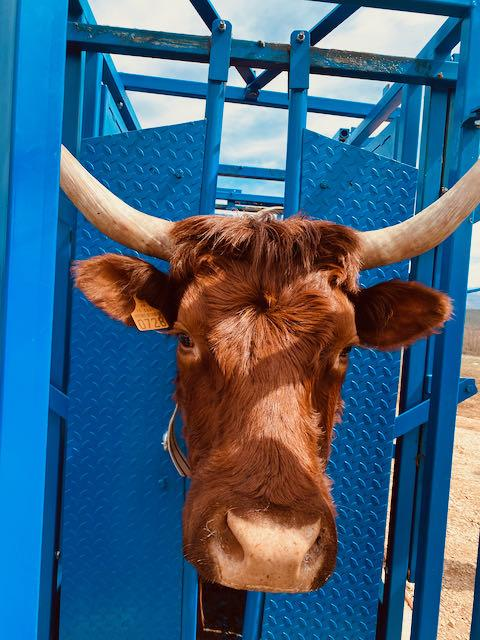muzzles: (202, 493, 333, 598)
